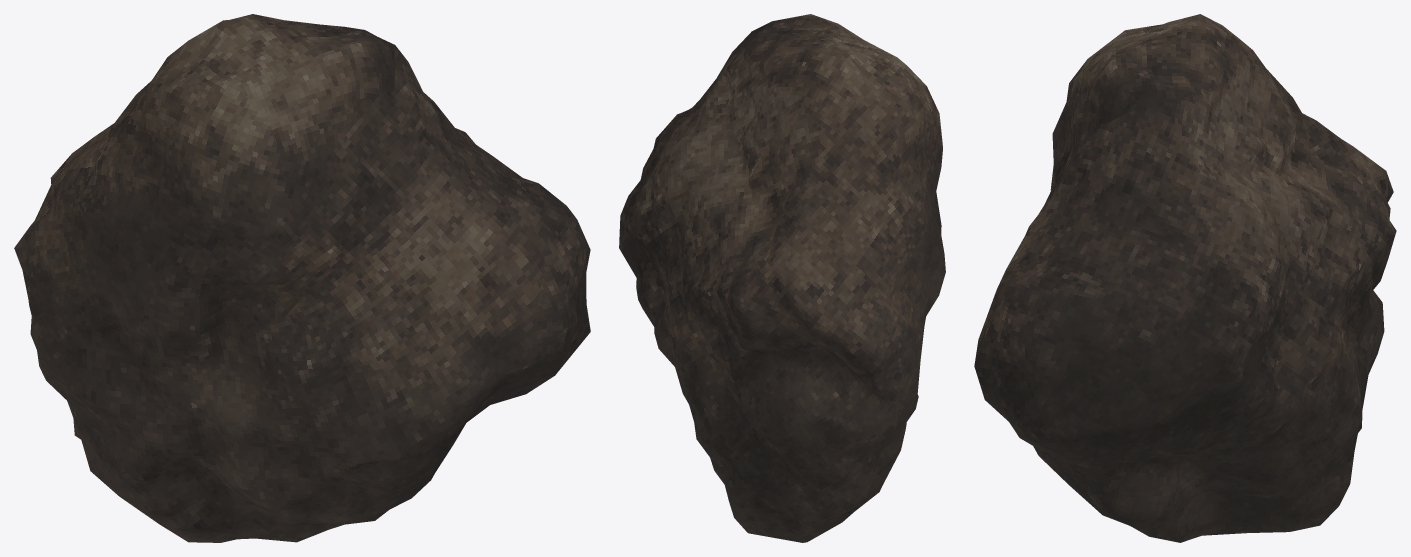
The model's file is SM_RP2_Rock_2m_0.glb.
The picture shows the model from 3 angles, left to right: view 1: azimuth 30°, elevation 25°; view 2: azimuth 150°, elevation 25°; view 3: azimuth 270°, elevation 25°; orthographic projection. The views are drawn at different scales.
Visible parts, largest first — view 1: SM_RP2_Rock_2m_0; view 2: SM_RP2_Rock_2m_0; view 3: SM_RP2_Rock_2m_0.
Part boxes in pixels (box(x1,y1,x2,y2)): SM_RP2_Rock_2m_0: box(14, 14, 590, 542); SM_RP2_Rock_2m_0: box(619, 14, 945, 542); SM_RP2_Rock_2m_0: box(974, 14, 1396, 542).
Size of the model in its own units: 3 by 3.73 by 2.82.
Materials: 1 (1 with a texture image).
